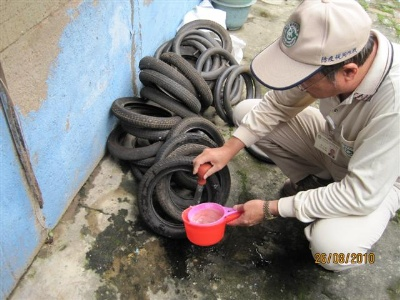tire: (172, 28, 227, 82), (111, 97, 182, 129), (223, 65, 262, 122)
